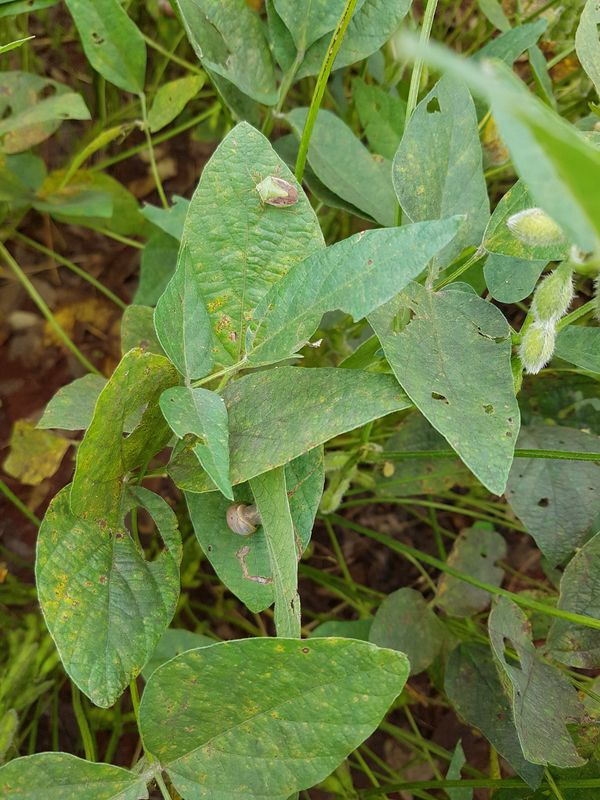Edessa_meditabunda: (239, 161, 314, 222)
Gastropoda: (213, 490, 274, 545)
